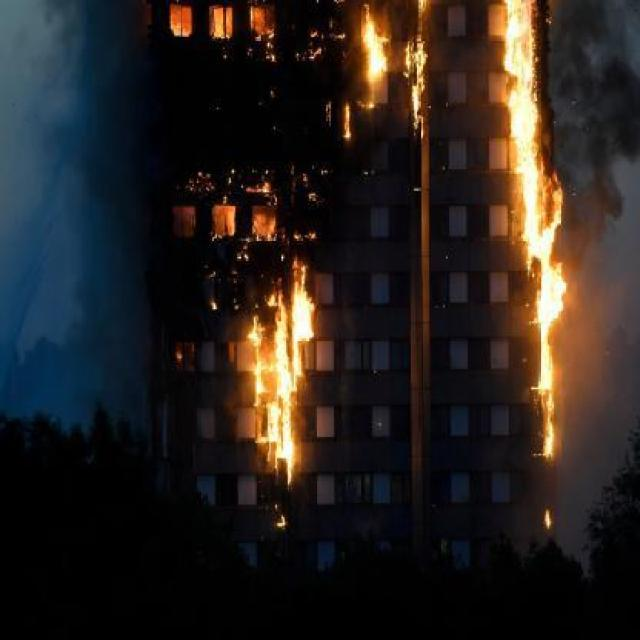Fire: (506, 0, 542, 269), (269, 282, 315, 470), (168, 2, 269, 42), (180, 204, 282, 238), (539, 326, 559, 463), (364, 12, 388, 90), (410, 37, 428, 134), (536, 266, 566, 322), (545, 181, 561, 264), (342, 98, 358, 144)
Smoke: (552, 13, 640, 156)
